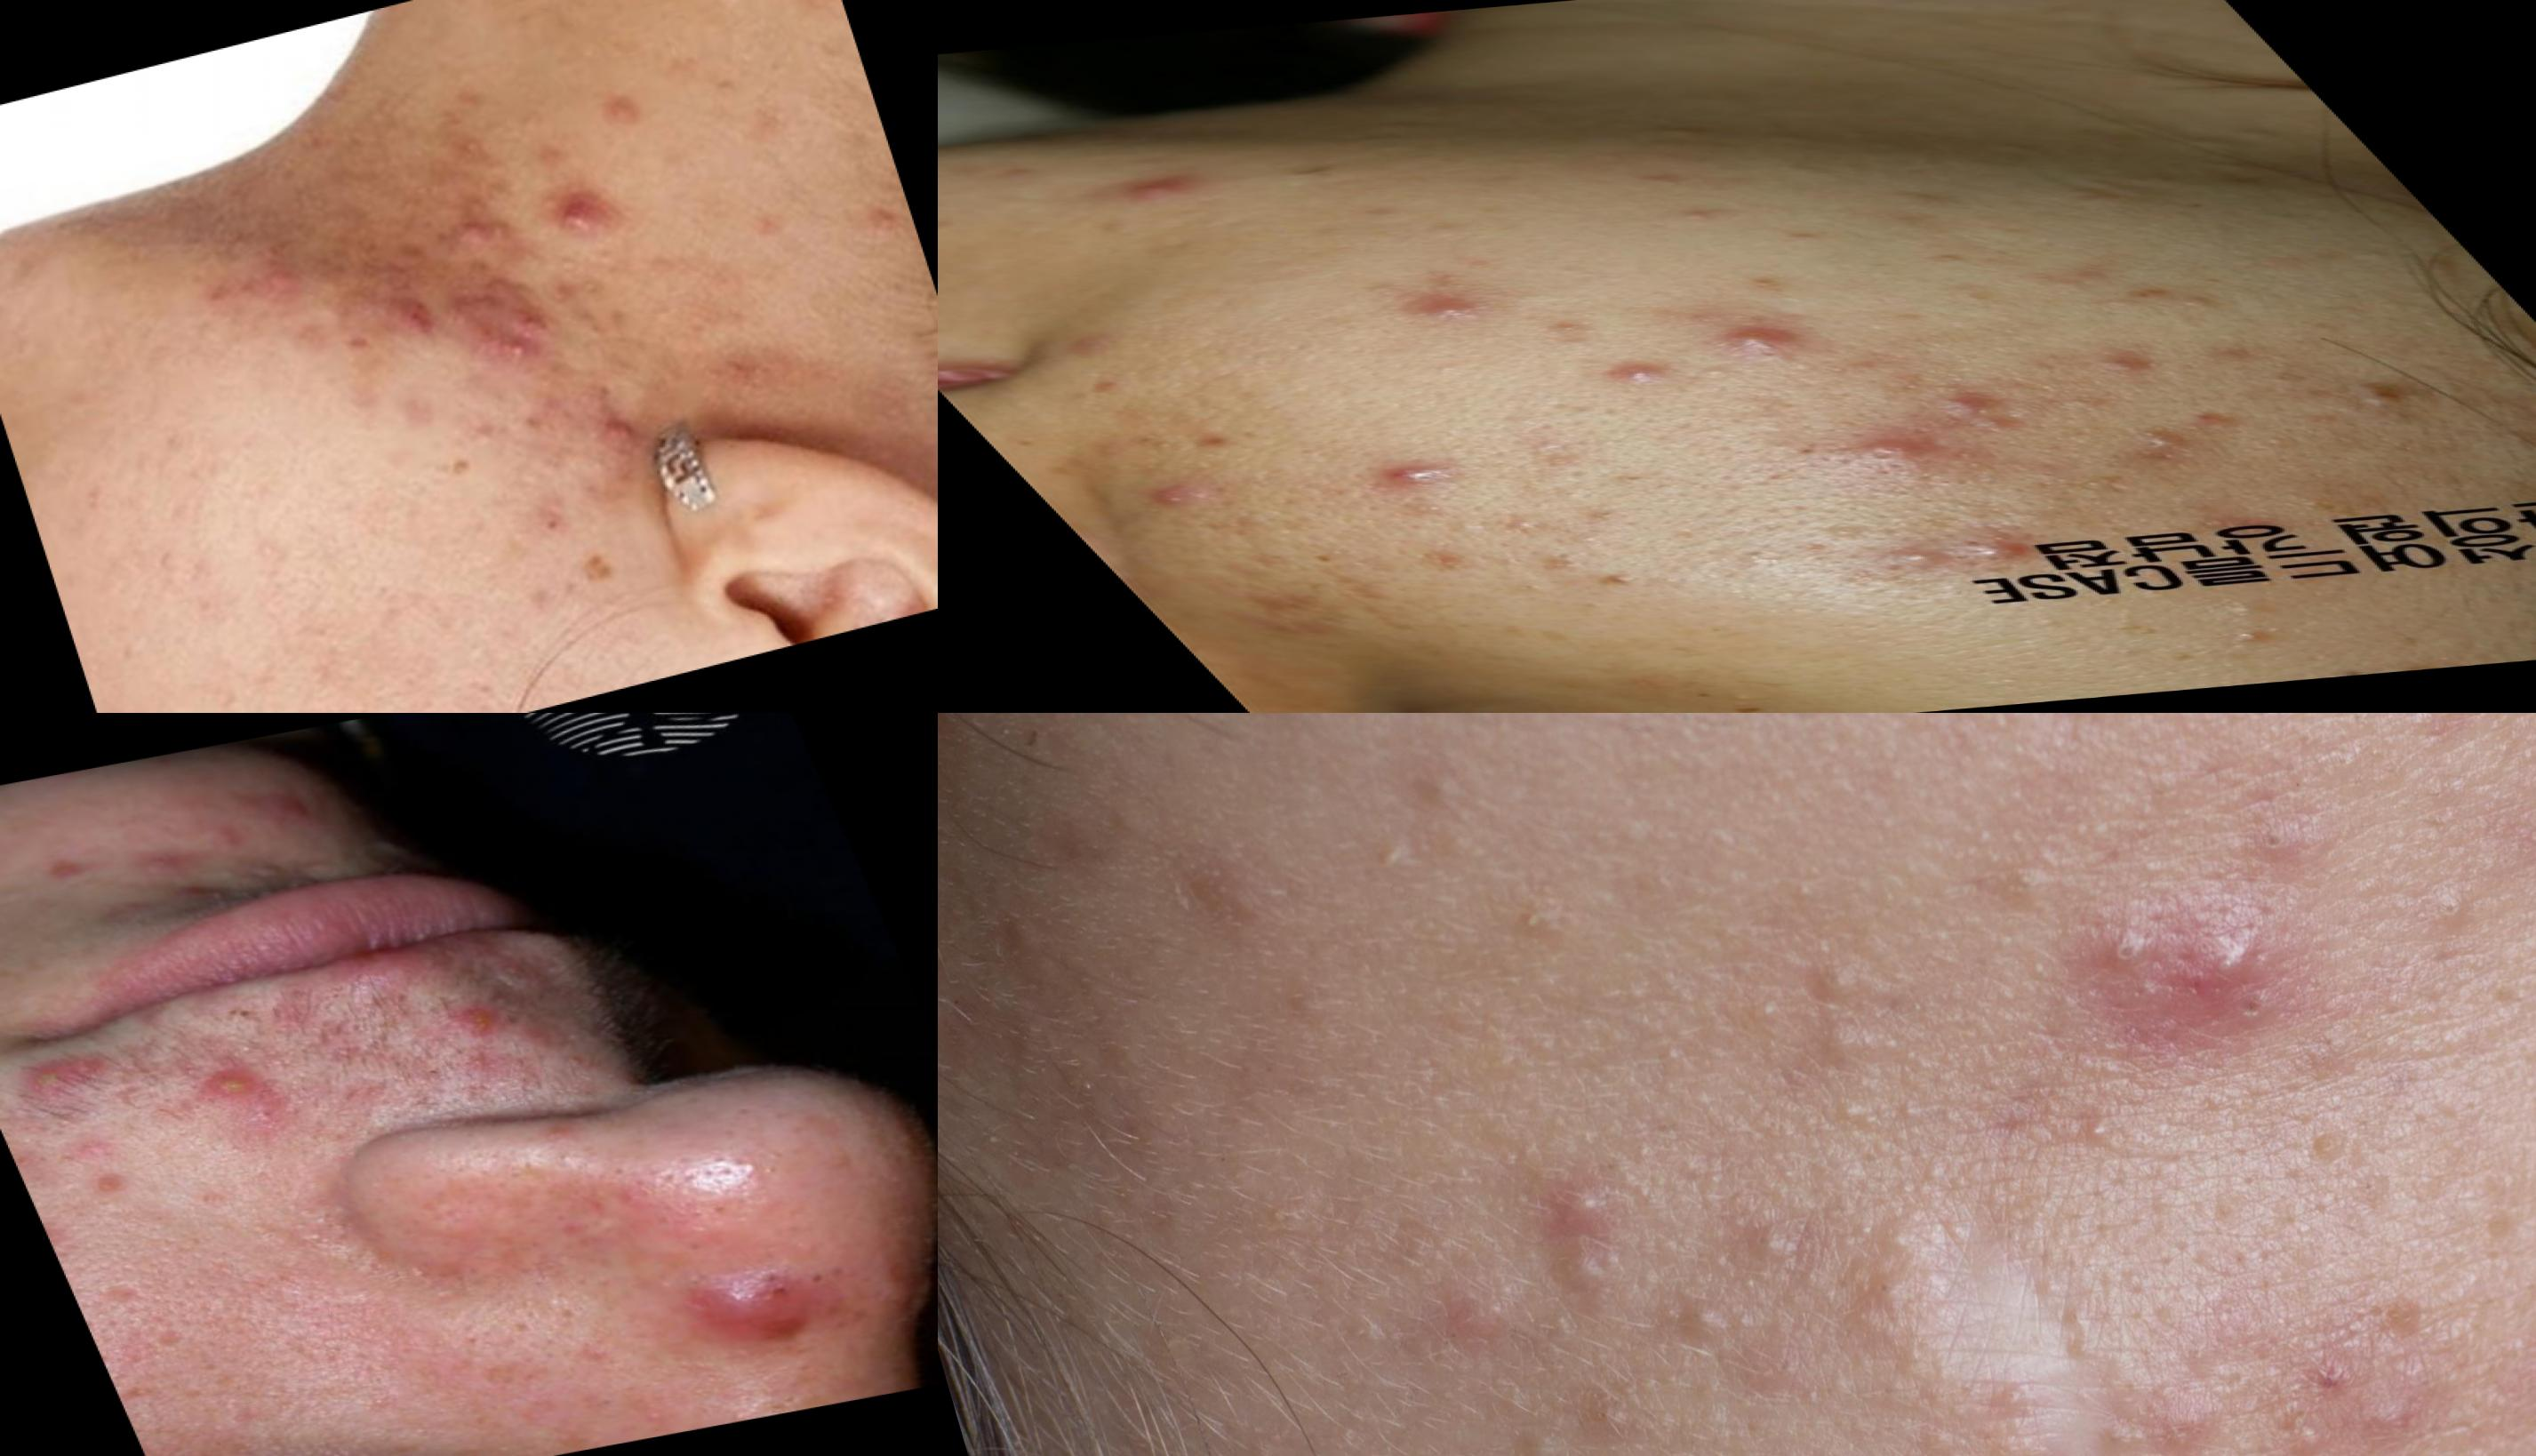blackhead: (1750, 920, 1876, 1031), (2200, 794, 2332, 893), (2085, 909, 2186, 1000), (2224, 970, 2303, 1062)
cystic: (589, 1224, 866, 1369)
papular: (1017, 157, 1259, 225), (509, 155, 643, 254), (1331, 275, 1512, 345), (1872, 371, 2038, 430), (406, 977, 510, 1059), (1541, 357, 1696, 399), (242, 784, 340, 838), (416, 188, 495, 254), (52, 1127, 132, 1176), (190, 829, 261, 867), (122, 852, 199, 886)
purulent: (1834, 517, 2029, 587), (1294, 441, 1480, 500), (179, 1041, 300, 1123), (1679, 305, 1817, 362), (2, 1035, 101, 1111)
sebo-crystan-conglo: (411, 253, 550, 380), (559, 371, 624, 468)
whitehead: (1503, 1151, 1677, 1310), (2101, 576, 2388, 665), (1627, 1287, 1785, 1386), (2078, 413, 2219, 465), (1970, 1421, 2142, 1456)
